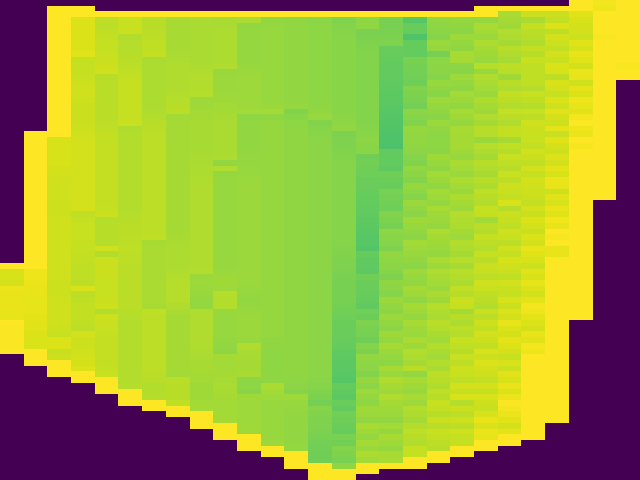cube: (1, 2, 640, 480)
